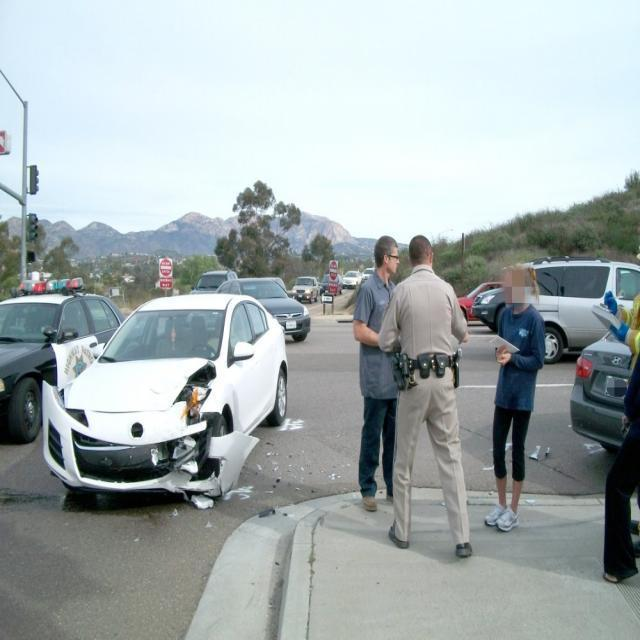accident: (39, 294, 300, 516)
non-accident: (292, 273, 341, 303)
